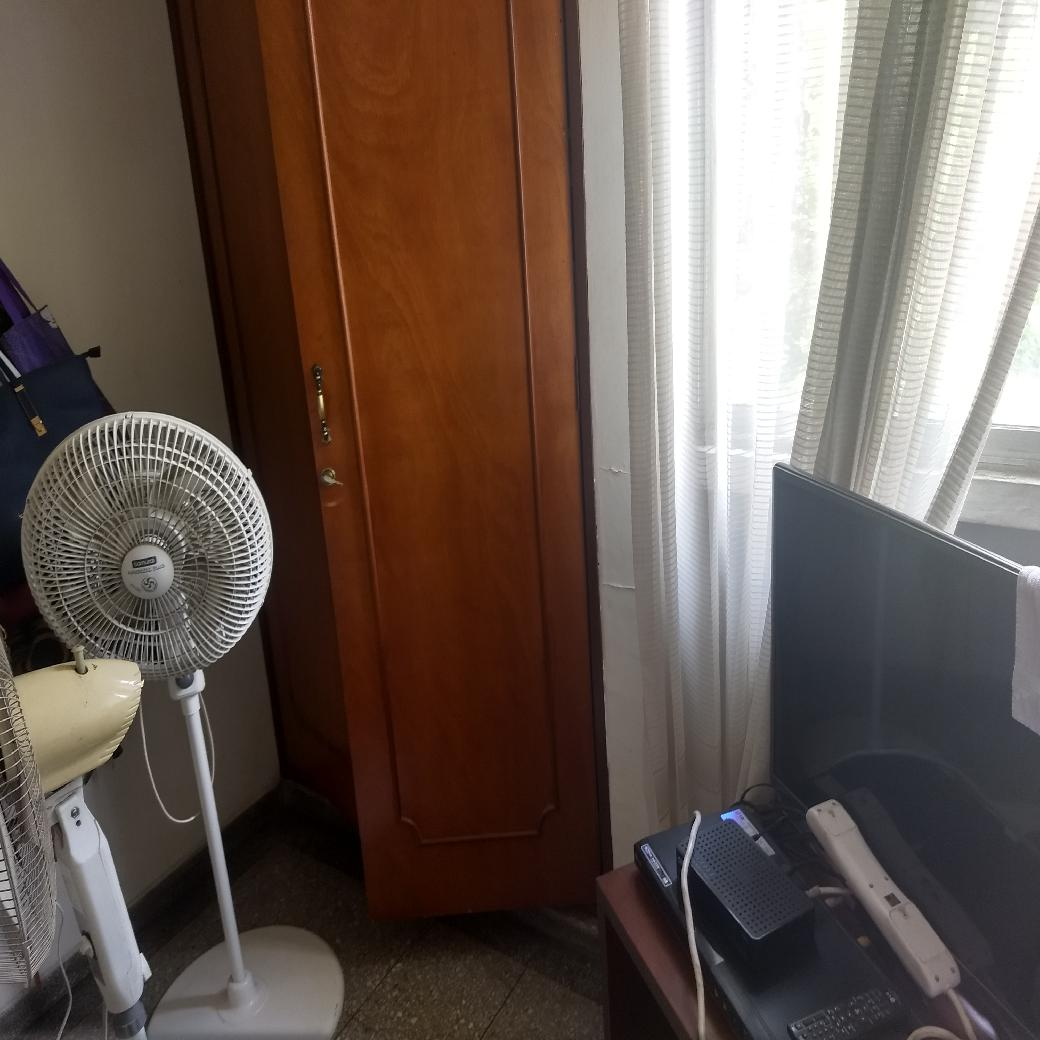tv: (766, 462, 1040, 994)
ventilador: (16, 407, 275, 675)
